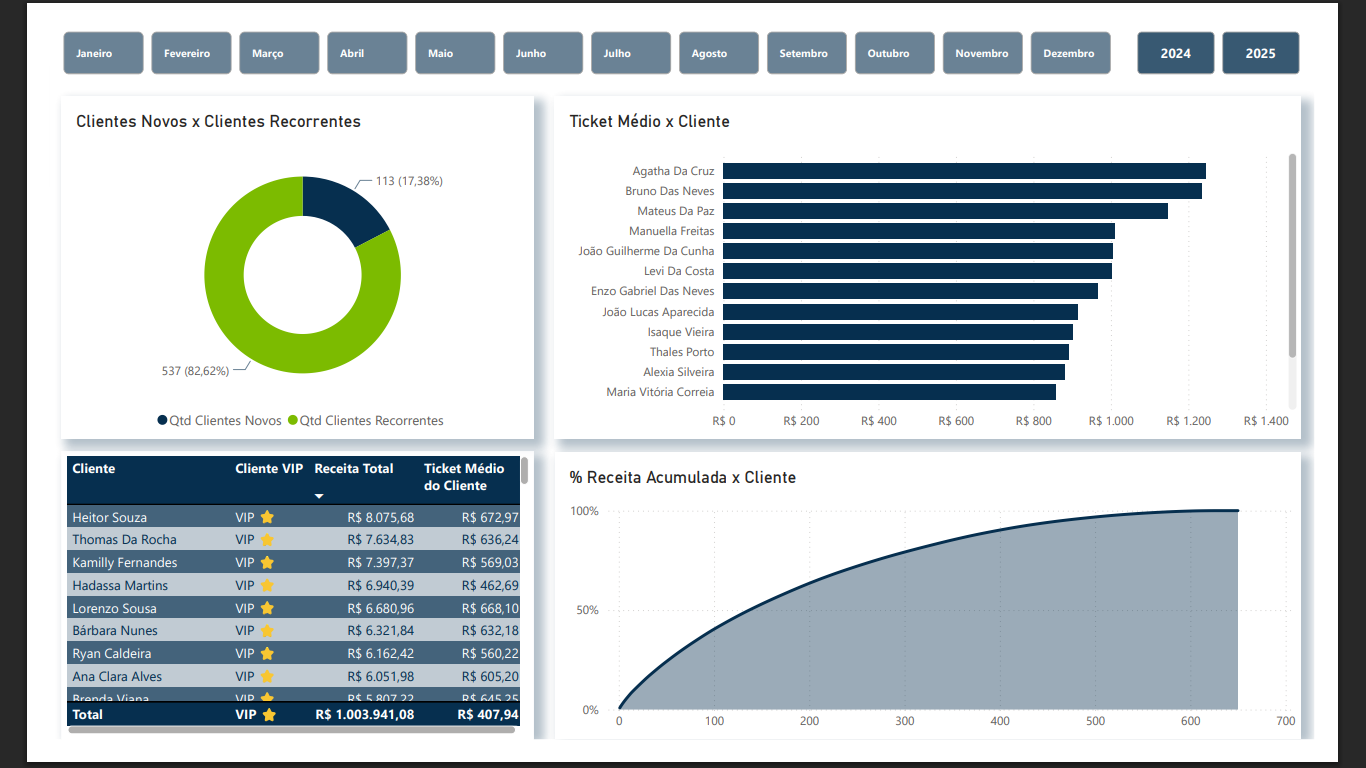

The dashboard page shown, as its layout file describes it:
{"tool":"powerbi","page":{"name":"Clientes","canvas":[1280,720],"ordinal":1},"visuals":[{"type":"donutChart","title":"Clientes Novos x Clientes Recorrentes","fields":{"Y":["_Medidas.Qtd Clientes Novos","_Medidas.Qtd Clientes Recorrentes"]},"box":[11.7,70.2,478.5,345.4],"z":0},{"type":"barChart","title":"Ticket Médio x Cliente","fields":{"Y":["_Medidas.Ticket Médio do Cliente"],"Category":["dim_clientes.nome_cliente"]},"box":[510.7,70.2,756.6,345.4],"z":1000},{"type":"tableEx","fields":{"Values":["dim_clientes.nome_cliente","_Medidas.Cliente VIP","_Medidas.Receita Total","_Medidas.Ticket Médio do Cliente"]},"box":[11.7,428.8,478.5,291.2],"z":2000},{"type":"areaChart","title":"% Receita Acumulada x Cliente","fields":{"Category":["Eixo Ranking.Value"],"Y":["_Medidas.% Acumulado Cliente"]},"box":[510.7,430.2,755.1,289.8],"z":3000},{"type":"advancedSlicerVisual","fields":{"Values":["dim_calendario.ano"]},"box":[1096.1,0,174.1,52.7],"z":4000},{"type":"advancedSlicerVisual","fields":{"Values":["dim_calendario.mes_nome"]},"box":[8.8,0,1078.5,52.7],"z":5000}]}

Visuals, with their boxes in screenshot pixels (x1, y1, x2, y2), scaled from the page's 1280x720 canvas onto the 1366x768 screenshot:
"Clientes Novos x Clientes Recorrentes" donutChart: bbox(12, 75, 523, 443)
"Ticket Médio x Cliente" barChart: bbox(545, 75, 1352, 443)
tableEx - dim_clientes.nome_cliente x _Medidas.Cliente VIP: bbox(12, 457, 523, 767)
"% Receita Acumulada x Cliente" areaChart: bbox(545, 459, 1351, 767)
advancedSlicerVisual - dim_calendario.ano: bbox(1170, 0, 1356, 56)
advancedSlicerVisual - dim_calendario.mes_nome: bbox(9, 0, 1160, 56)
